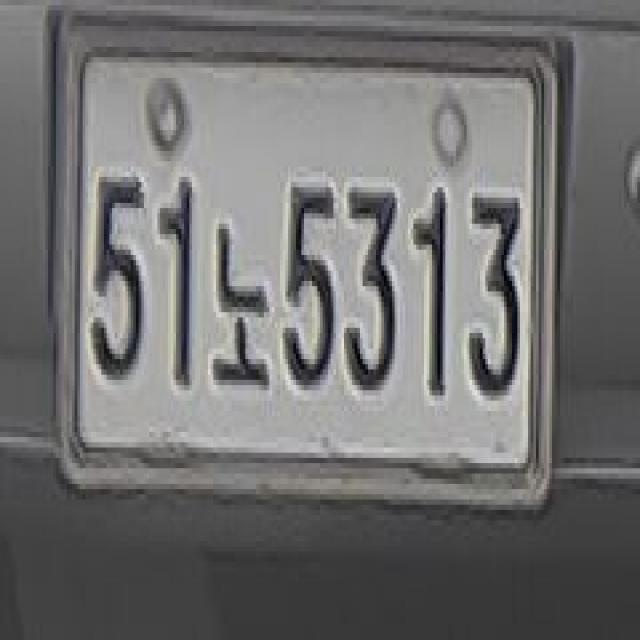1: (148, 170, 204, 402), (410, 172, 457, 438)
3: (464, 175, 529, 427), (345, 167, 406, 420)
5: (92, 160, 146, 397), (284, 165, 336, 402)
license_plate: (63, 39, 530, 502)
no: (208, 212, 273, 414)
